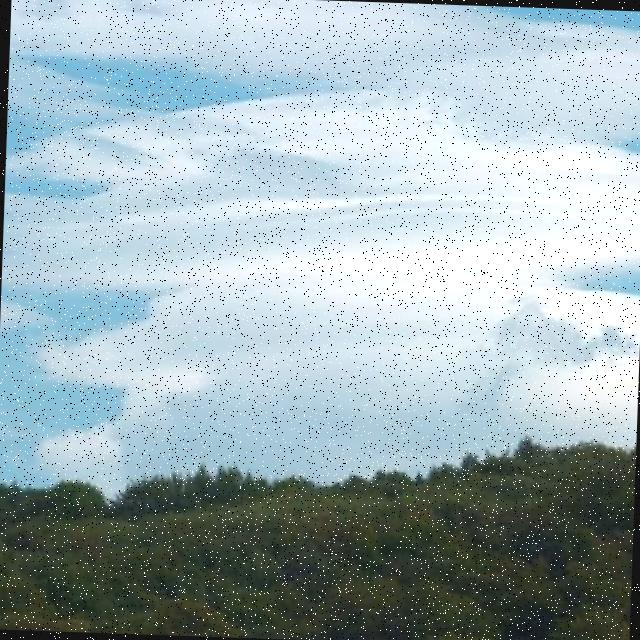Ac: (1, 1, 640, 409)
